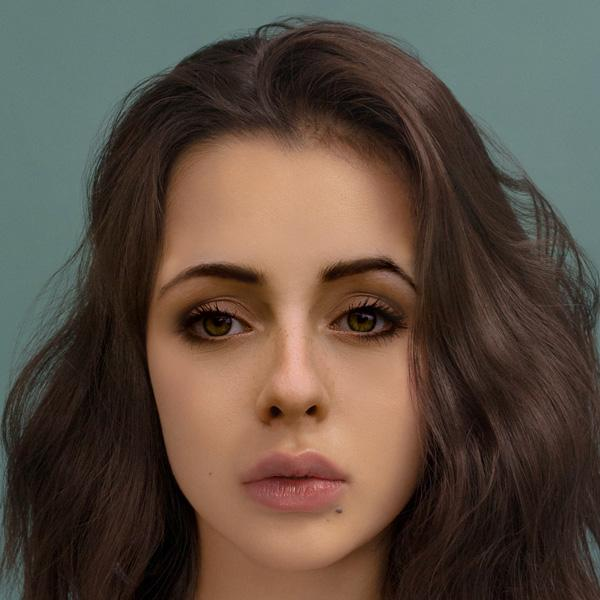Eyes: (318, 287, 415, 351), (169, 289, 268, 349)
